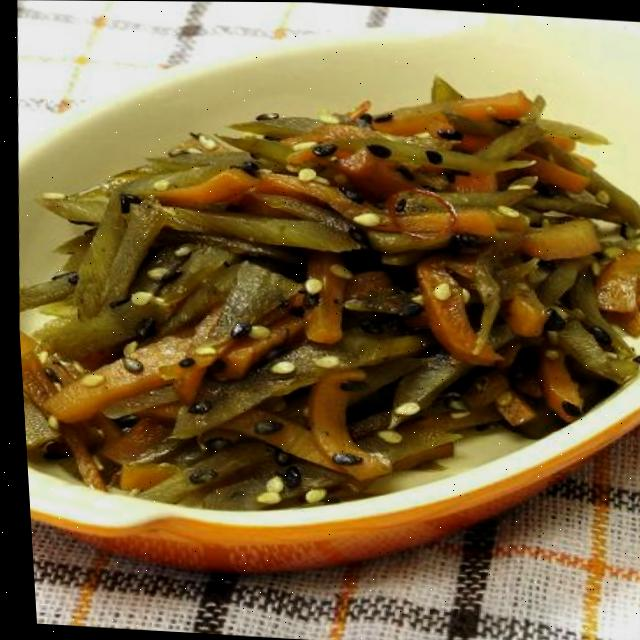蔬菜料理: (0, 3, 640, 563)
